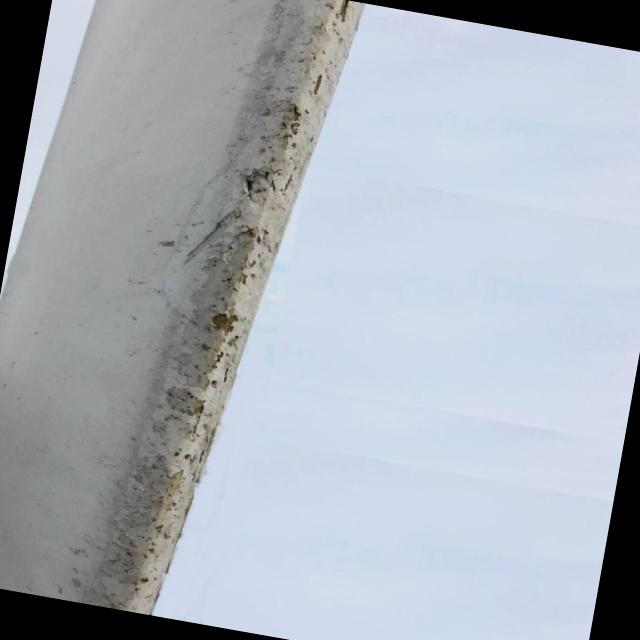corrosion: (192, 0, 343, 335), (114, 328, 235, 598)
